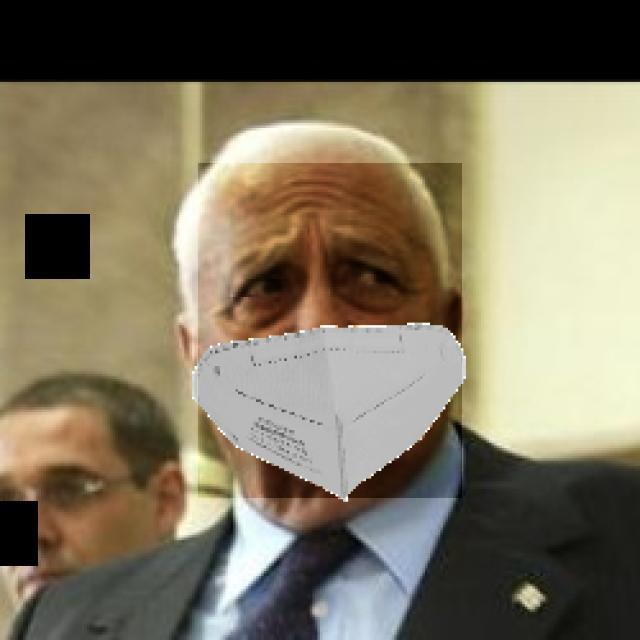kn95: (198, 163, 462, 498)
